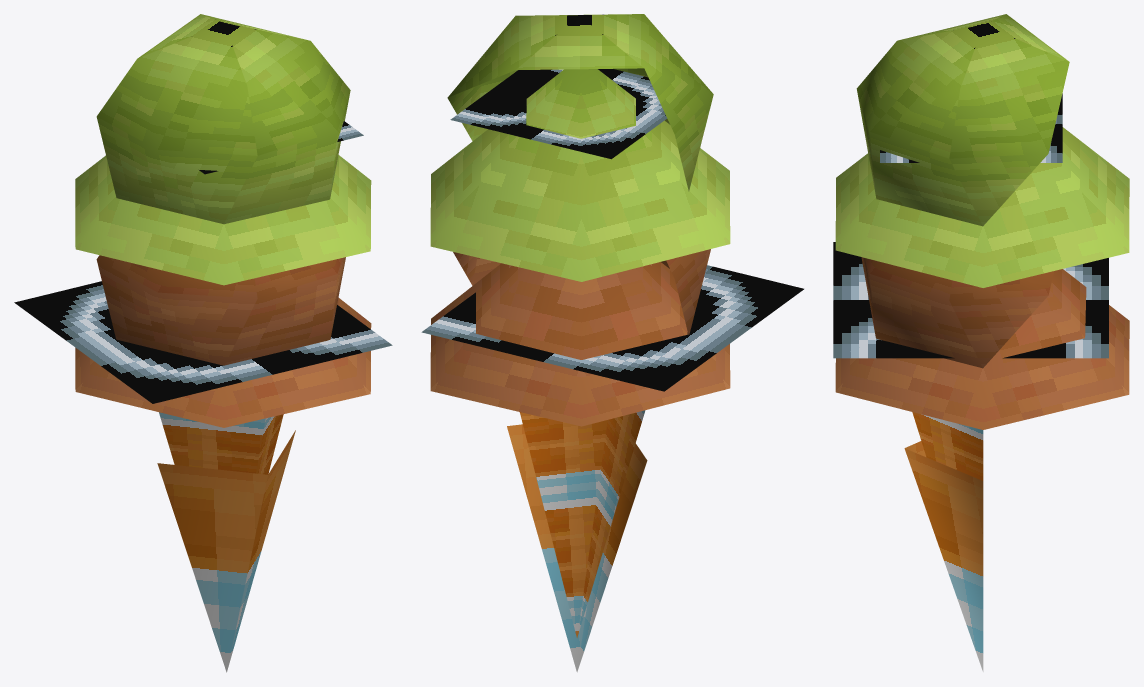
3 views of the same model, side by side, from view 1: azimuth 30°, elevation 25°; view 2: azimuth 150°, elevation 25°; view 3: azimuth 270°, elevation 25° (orthographic).
Parts seen in each view (by area): view 1: 5616u_ice00_hs; view 2: 5616u_ice00_hs; view 3: 5616u_ice00_hs.
Boxes of the visible parts, bbox=[...] form: 5616u_ice00_hs: bbox=[14, 14, 392, 672]; 5616u_ice00_hs: bbox=[421, 14, 803, 672]; 5616u_ice00_hs: bbox=[833, 14, 1129, 671].
Size of the model in its own units: 0.4375 by 0.9199 by 0.3818.
6 materials, 6 textured.
